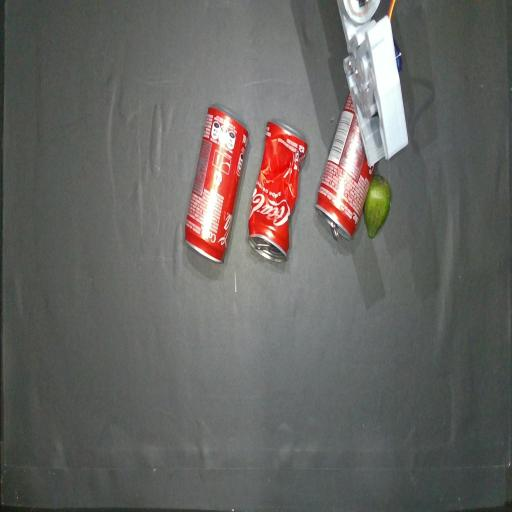higo: (364, 175, 391, 238)
lata: (185, 104, 248, 263), (315, 94, 373, 239)
lata_defectuoso: (248, 121, 307, 262)
